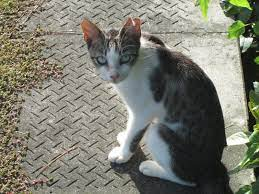cat: (65, 10, 237, 194)
